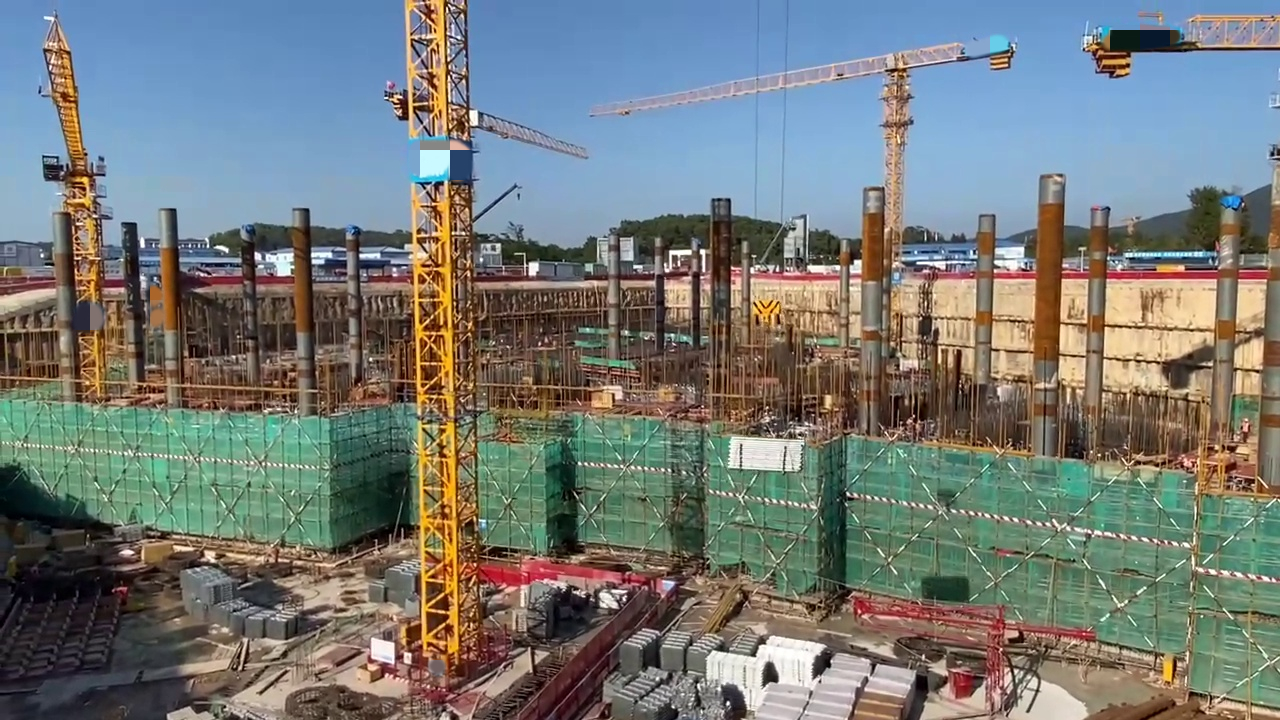board: (857, 694, 909, 720)
fence: (519, 556, 617, 586), (483, 558, 522, 587)
hook: (751, 302, 783, 320)
scaffold: (612, 669, 732, 720), (624, 625, 754, 666), (757, 630, 824, 684), (184, 563, 234, 627), (709, 648, 761, 709), (221, 595, 298, 634), (729, 435, 807, 473), (383, 558, 421, 611)
